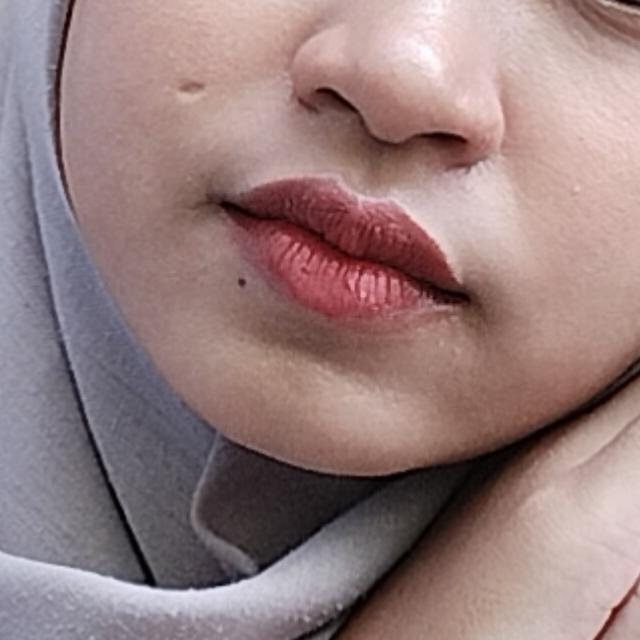tidur: (46, 38, 640, 640)
